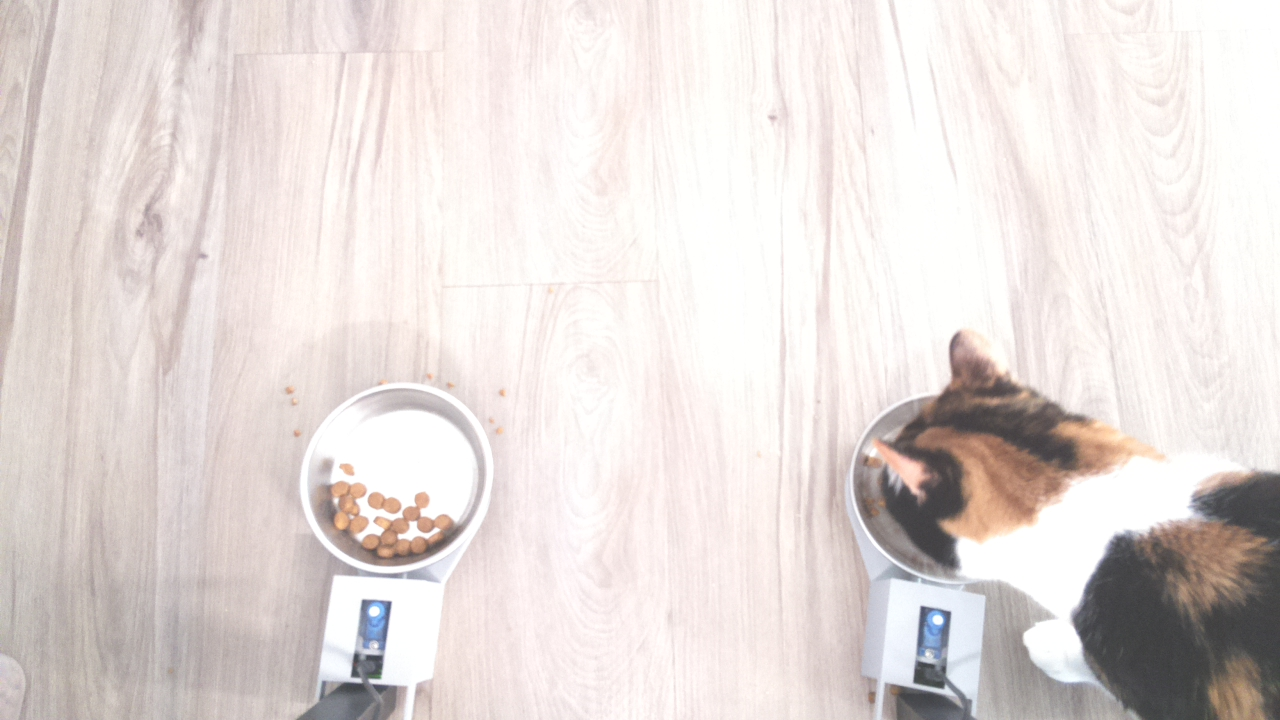bella_eating: (847, 315, 1142, 613)
open_bowl: (299, 382, 497, 576)
